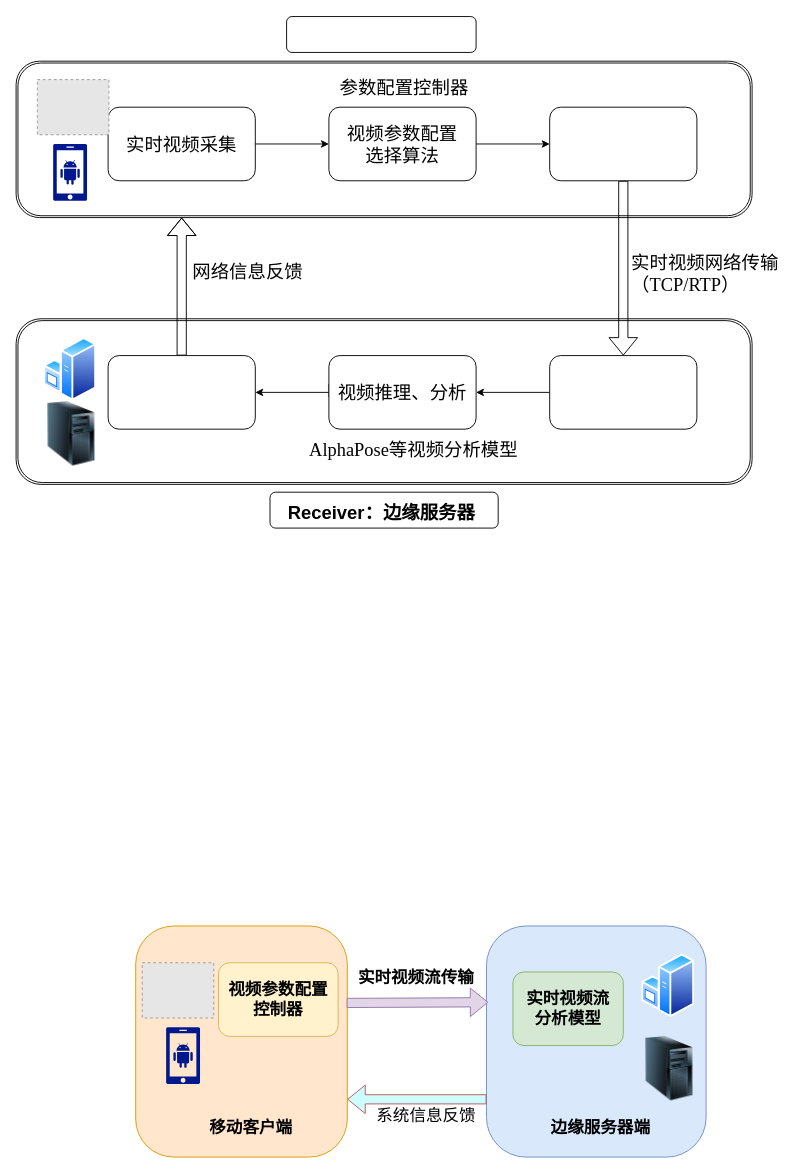
The diagram is 800 pixels wide and 1173 high, and some of its shapes have lost their labels. Grey dashed boxes stand in for pictures. Here are the shapes that lost their labels. From the top down, the centre of each, then its label:
At point (381, 34): "Sender：摄像头终端".
At point (623, 143): "视频压缩&编码".
At point (181, 392): "视频播放/保存".
At point (623, 392): "视频解码&分帧".
